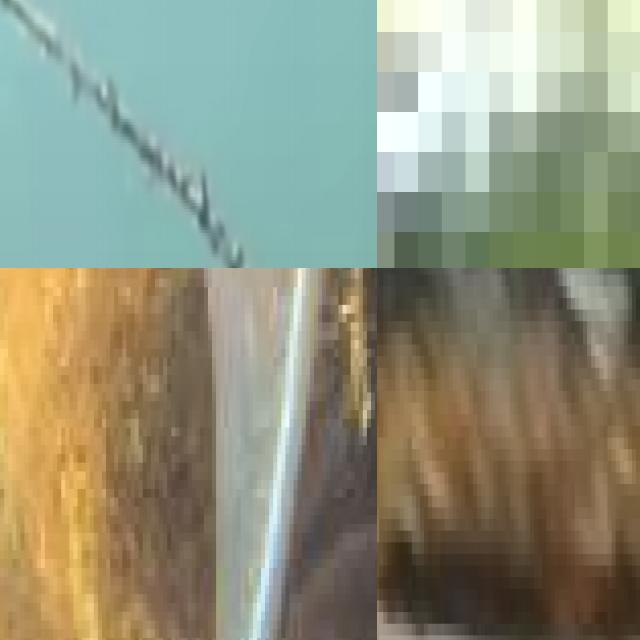fish: (0, 0, 377, 268), (138, 268, 377, 640), (377, 0, 640, 268)
